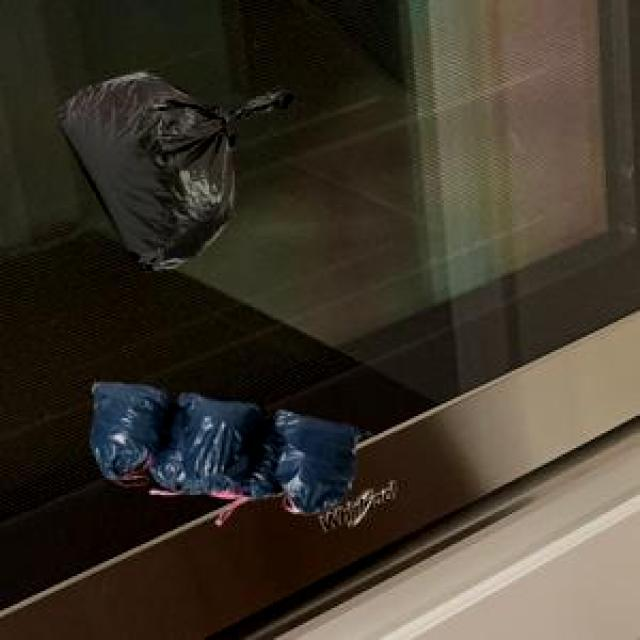Trashbag: (50, 68, 246, 275), (172, 388, 278, 506), (76, 371, 179, 487), (270, 401, 369, 520)
